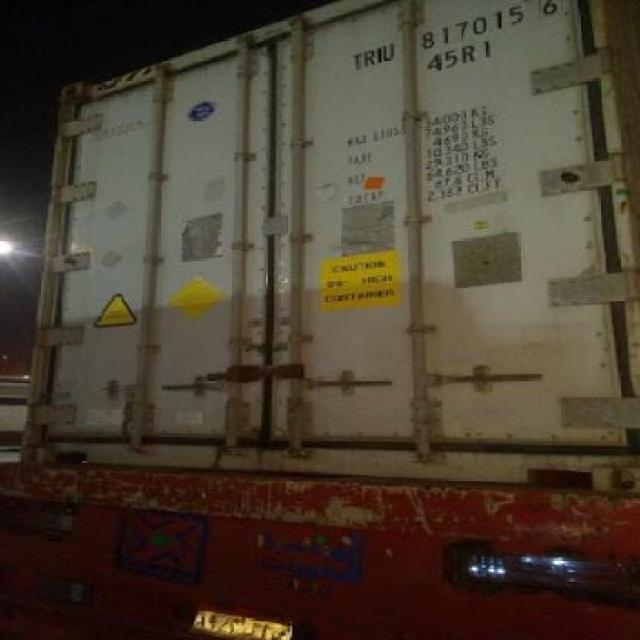ISO: (427, 35, 492, 84)
container_number: (352, 0, 568, 73)
